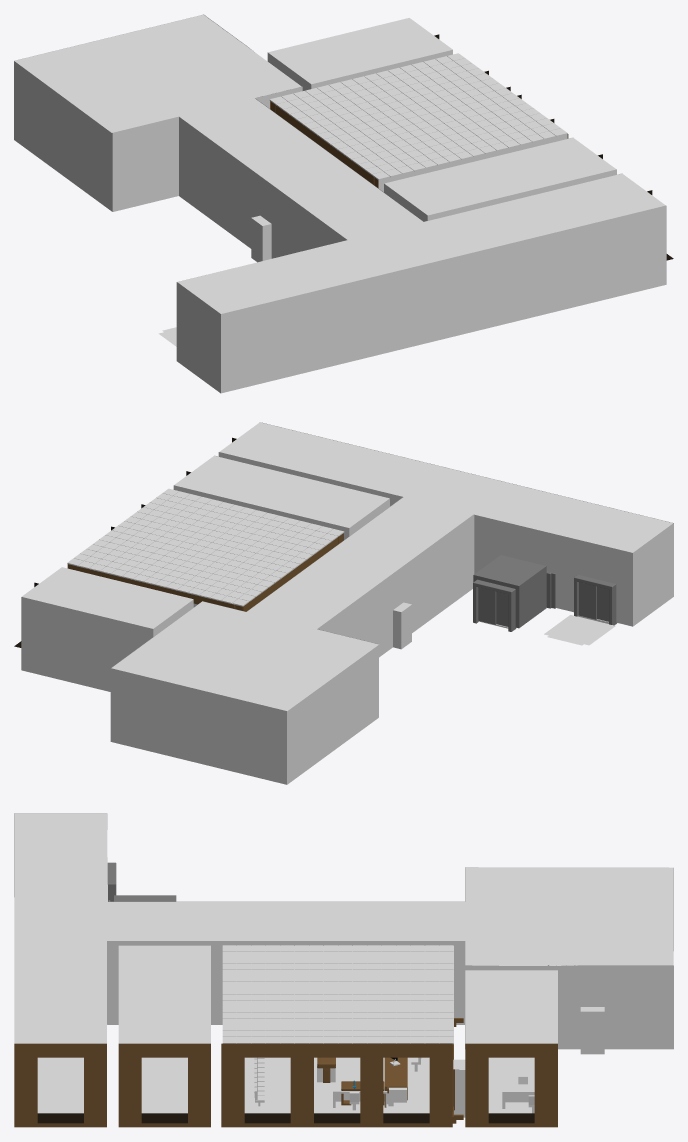
The model's file is Test_Court_Room_v1_4.fbx.
3 views of the same model, one above another, from view 1: azimuth 30°, elevation 25°; view 2: azimuth 150°, elevation 25°; view 3: azimuth 270°, elevation 25° (orthographic). The views are drawn at different scales.
Parts seen in each view (by area): view 1: Border_Foyer_Walls, SM_Foyer_Roof, SM_CourtRoom_Roof_Tiles, ExtraRoom_Ceiling, SM_ConsultationRoom_Wall_Roof, Cube.010, SM_ConsultationRoom_Wall_south, SM_Foyer_Wall, SM_CourtRoom_Wall_south, Plane.002; view 2: SM_Foyer_Roof, Border_Foyer_Walls, SM_CourtRoom_Roof_Tiles, SM_ConsultationRoom_Wall_south, ExtraRoom_Ceiling, SM_ConsultationRoom_Wall_Roof, SM_Elevator_2_Wall, SM_Foyer_Floor, Cube.010, Plane.001, SM_Foyer_Wall, Cube.018 (+4 smaller); view 3: SM_Foyer_Roof, SM_CourtRoom_Roof_Tiles, Border_Foyer_Walls, Plane.004, ExtraRoom_Ceiling, SM_ConsultationRoom_Wall_Roof, SM_Foyer_Floor, Plane.008, Plane.010, Plane.011, SM_CourtRoom_Floor, SM_CourtRoom_Gallery (+5 smaller).
Part boxes in pixels (x1=…): Border_Foyer_Walls: x1=14, y1=14, x2=666, y2=393; SM_Foyer_Roof: x1=14, y1=15, x2=665, y2=313; SM_CourtRoom_Roof_Tiles: x1=269, y1=53, x2=567, y2=180; ExtraRoom_Ceiling: x1=384, y1=137, x2=616, y2=215; SM_ConsultationRoom_Wall_Roof: x1=268, y1=18, x2=452, y2=84; Cube.010: x1=384, y1=138, x2=616, y2=221; SM_ConsultationRoom_Wall_south: x1=267, y1=50, x2=452, y2=90; SM_Foyer_Wall: x1=114, y1=86, x2=665, y2=314; SM_CourtRoom_Wall_south: x1=378, y1=134, x2=567, y2=191; Plane.002: x1=271, y1=102, x2=377, y2=187; SM_Foyer_Roof: x1=111, y1=422, x2=672, y2=710; Border_Foyer_Walls: x1=110, y1=422, x2=673, y2=784; SM_CourtRoom_Roof_Tiles: x1=67, y1=488, x2=344, y2=606; SM_ConsultationRoom_Wall_south: x1=21, y1=597, x2=193, y2=691; ExtraRoom_Ceiling: x1=174, y1=455, x2=389, y2=527; SM_ConsultationRoom_Wall_Roof: x1=21, y1=567, x2=193, y2=628; SM_Elevator_2_Wall: x1=473, y1=555, x2=546, y2=628; SM_Foyer_Floor: x1=496, y1=609, x2=615, y2=645; Cube.010: x1=173, y1=456, x2=389, y2=539; Plane.001: x1=67, y1=564, x2=243, y2=610; SM_Foyer_Wall: x1=111, y1=452, x2=672, y2=711; Cube.018: x1=473, y1=579, x2=516, y2=631; SM_Foyer_Roof: x1=14, y1=813, x2=673, y2=1043; SM_CourtRoom_Roof_Tiles: x1=222, y1=945, x2=453, y2=1044; Border_Foyer_Walls: x1=14, y1=813, x2=673, y2=1054; Plane.004: x1=221, y1=1043, x2=452, y2=1127; ExtraRoom_Ceiling: x1=118, y1=945, x2=210, y2=1043; SM_ConsultationRoom_Wall_Roof: x1=465, y1=970, x2=557, y2=1043; SM_Foyer_Floor: x1=37, y1=965, x2=577, y2=1113; Plane.008: x1=465, y1=1043, x2=557, y2=1127; Plane.010: x1=14, y1=1043, x2=106, y2=1127; Plane.011: x1=118, y1=1043, x2=210, y2=1127; SM_CourtRoom_Floor: x1=244, y1=1057, x2=452, y2=1126; SM_CourtRoom_Gallery: x1=386, y1=1057, x2=534, y2=1113.
Bounding box in the file's own units: 2456 × 413 × 2854.
